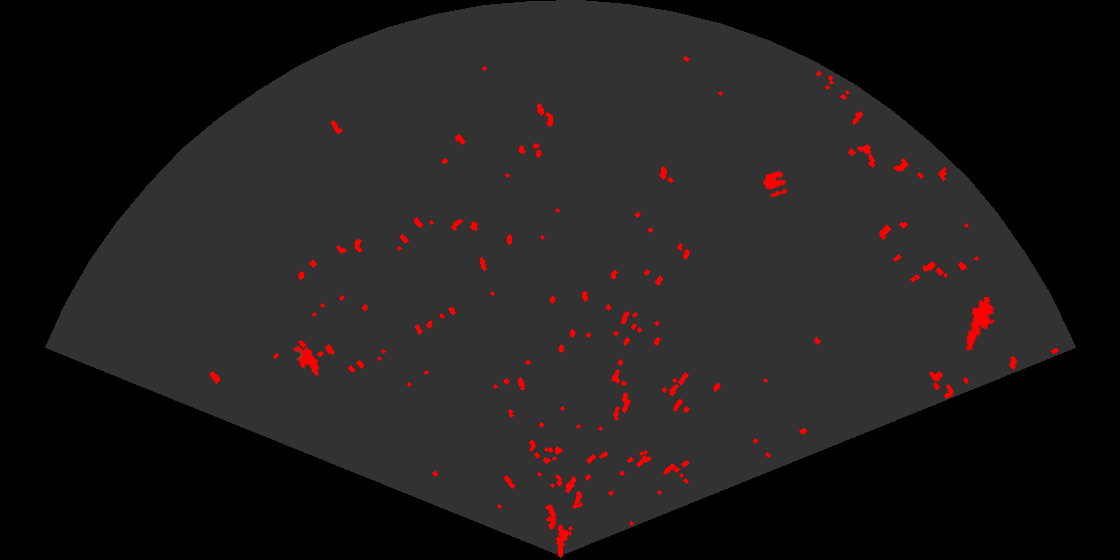AUV: (292, 344, 321, 378)
ball: (761, 169, 789, 199)
frogman: (965, 297, 997, 351)
